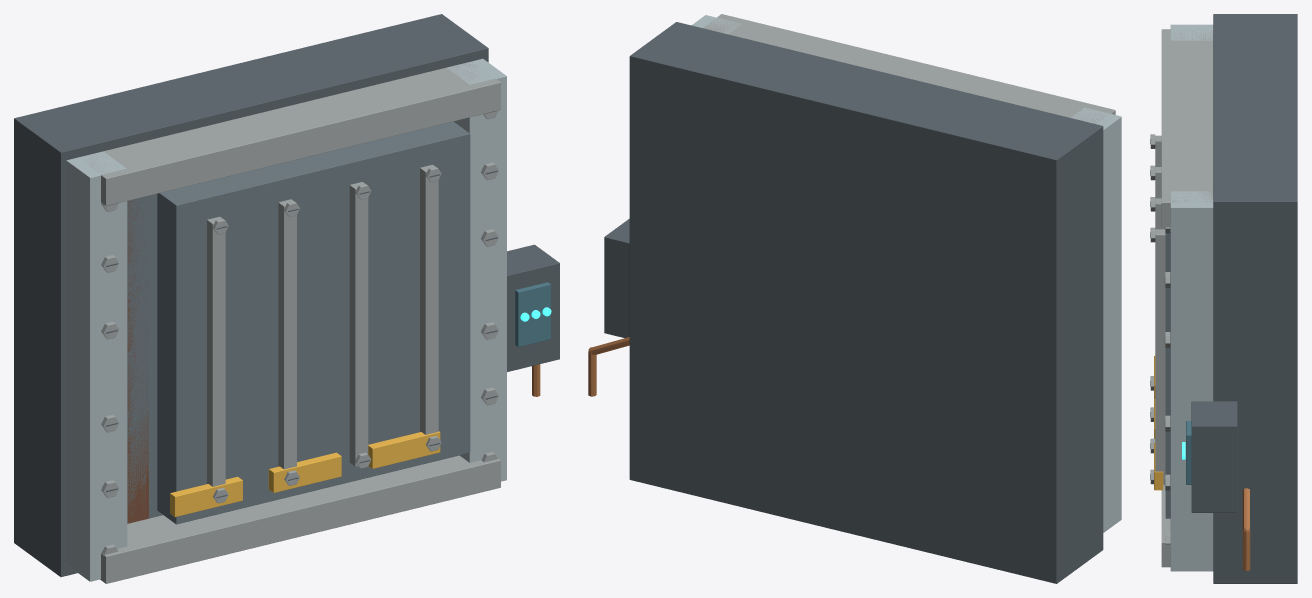
File: 08_Motorized_Blast_Door.fbx
3 views of the same model, side by side, from view 1: azimuth 30°, elevation 25°; view 2: azimuth 150°, elevation 25°; view 3: azimuth 270°, elevation 25° (orthographic). The views are drawn at different scales.
Visible parts, largest first — view 1: 08_Motorized_Blast_Door; view 2: 08_Motorized_Blast_Door; view 3: 08_Motorized_Blast_Door.
Part boxes in pixels (left/top/right/bottom): 08_Motorized_Blast_Door: left=14, top=14, right=559, bottom=583; 08_Motorized_Blast_Door: left=588, top=14, right=1121, bottom=583; 08_Motorized_Blast_Door: left=1150, top=14, right=1297, bottom=583.
Size of the model in its own units: 4.53 by 3.7 by 1.3.
